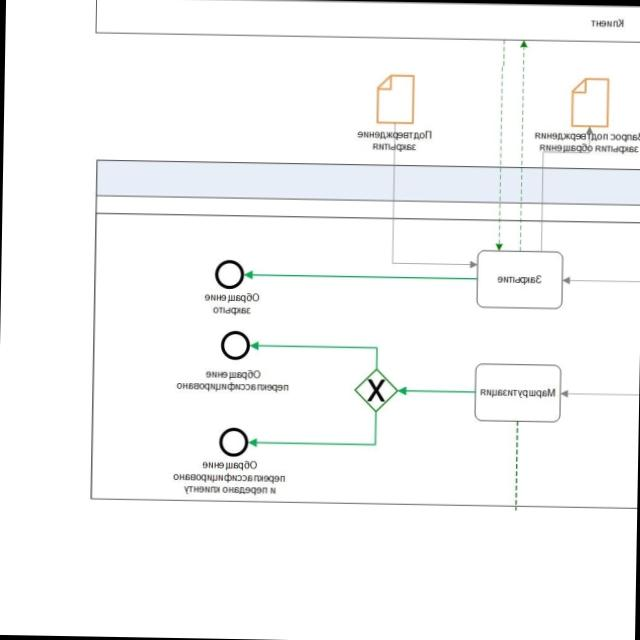arrow: (248, 408, 379, 451), (244, 266, 477, 284), (250, 339, 380, 368), (398, 383, 474, 398)
circle: (214, 260, 243, 289), (220, 331, 249, 360), (218, 428, 247, 456)
diamond: (355, 370, 396, 410)
rectangle: (476, 250, 562, 309), (475, 364, 560, 422)
text_region: (170, 458, 286, 496), (175, 368, 289, 392), (203, 290, 260, 316)
